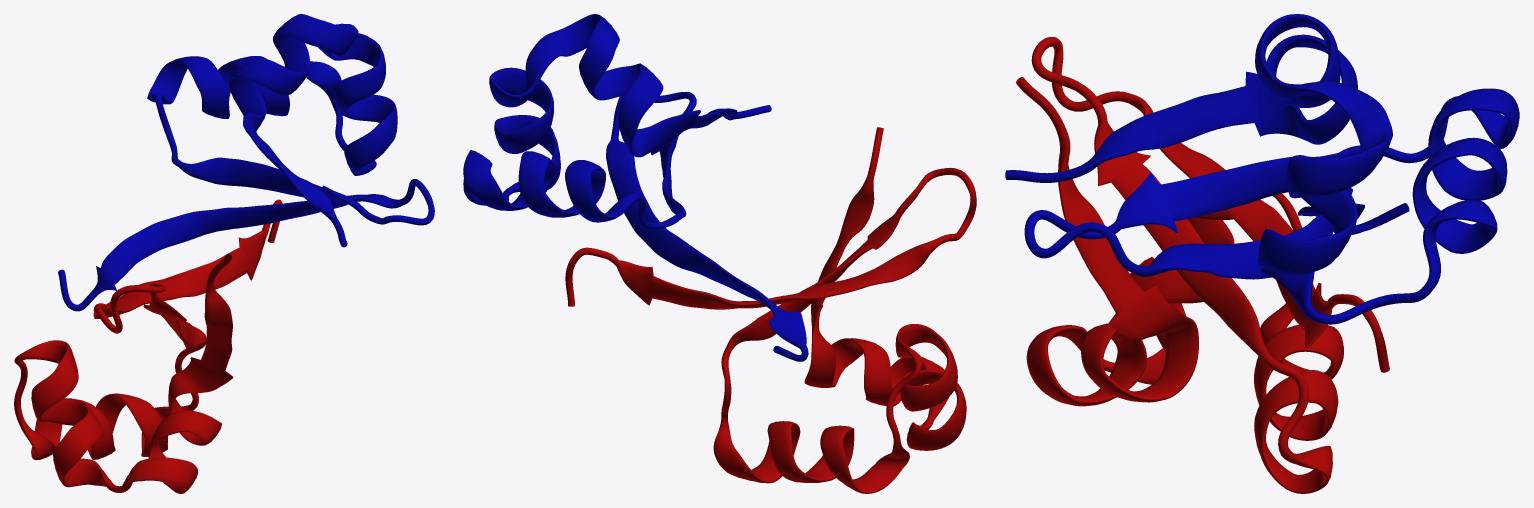
File: cro.obj
3 views of the same model, side by side, from view 1: azimuth 30°, elevation 25°; view 2: azimuth 150°, elevation 25°; view 3: azimuth 270°, elevation 25° (orthographic). The views are drawn at different scales.
Visible parts, largest first — view 1: vmd_mol0_rep0; view 2: vmd_mol0_rep0; view 3: vmd_mol0_rep0.
Part boxes in pixels (x1,y1,x2,y2): vmd_mol0_rep0: (14,14,434,493); vmd_mol0_rep0: (463,14,976,493); vmd_mol0_rep0: (1005,14,1519,493).
Bounding box in the file's own units: 1.28 × 1.24 × 0.993.
